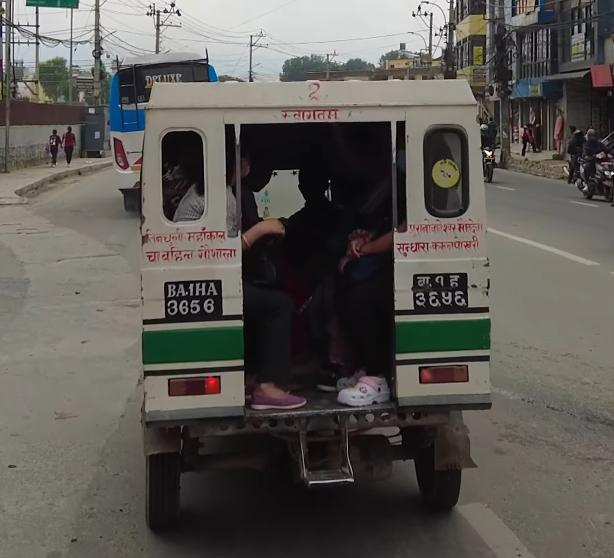tempo: (120, 63, 509, 528)
